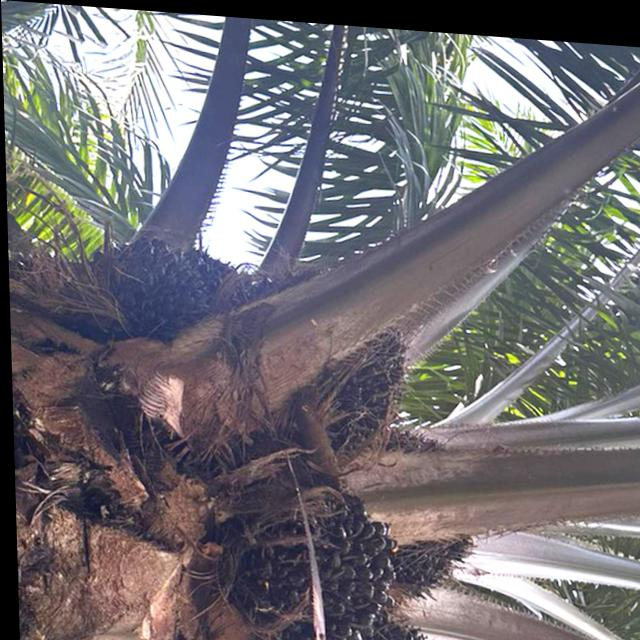unripe: (209, 446, 391, 640), (97, 220, 234, 343), (291, 315, 416, 442), (383, 519, 482, 607), (255, 605, 457, 640)
